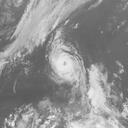cyclone: (48, 39, 85, 88)
